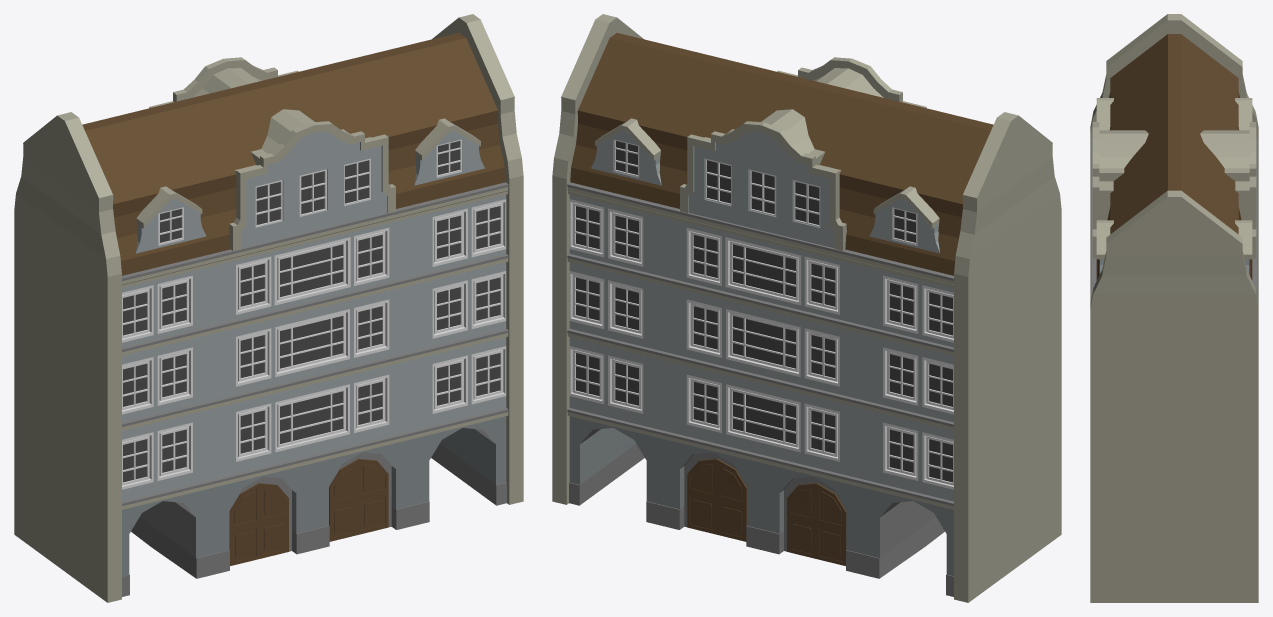
Rendered from Building2_Large.glb.
3 renders of one model, left to right at view 1: azimuth 30°, elevation 25°; view 2: azimuth 150°, elevation 25°; view 3: azimuth 270°, elevation 25°, orthographic. The views are drawn at different scales.
Visible parts, largest first — view 1: Building2_Large; view 2: Building2_Large; view 3: Building2_Large.
Part boxes in pixels (x1,y1,x2,y2): Building2_Large: [14, 14, 523, 602]; Building2_Large: [552, 14, 1061, 602]; Building2_Large: [1090, 14, 1258, 602].
Size of the model in its own units: 5.72 by 5.92 by 2.22.
